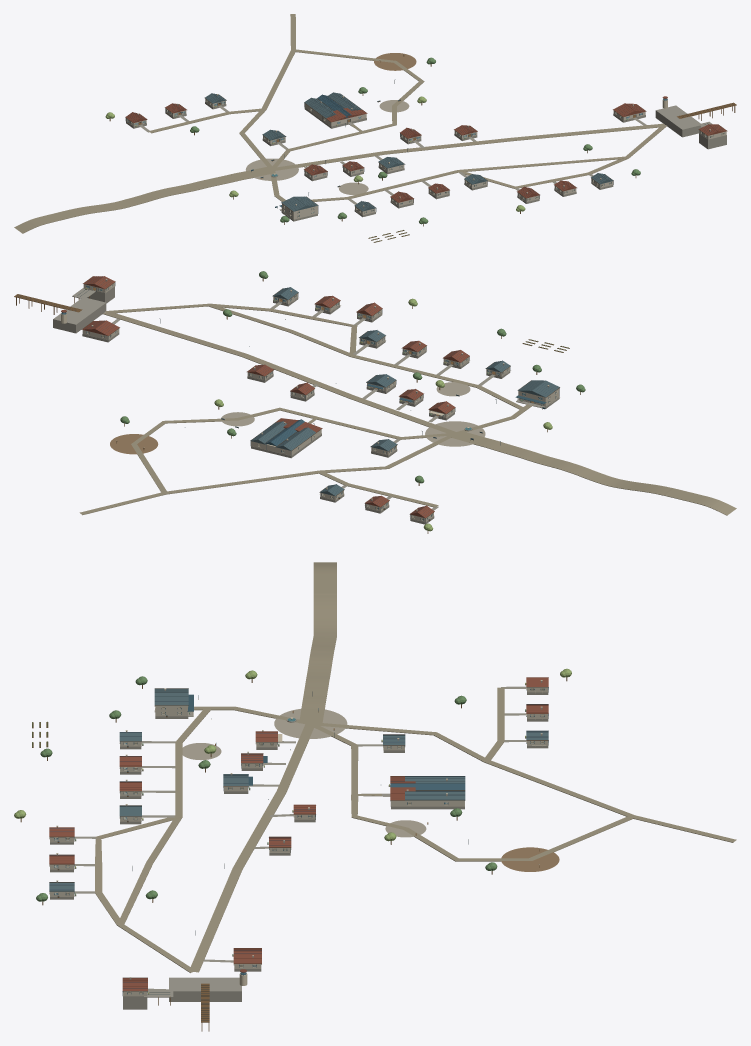
Rendered from world_home.visual.glb.
3 renders of one model, top to bottom at view 1: azimuth 30°, elevation 25°; view 2: azimuth 150°, elevation 25°; view 3: azimuth 270°, elevation 25°, orthographic. The views are drawn at different scales.
Visible parts, largest first — view 1: home_Routes, home_Buildings, home_PublicSpaces, home_Harbour, home_Trees_Leaves; view 2: home_Routes, home_Buildings, home_PublicSpaces, home_Harbour, home_Trees_Leaves; view 3: home_Routes, home_Buildings, home_PublicSpaces, home_Harbour, home_Trees_Leaves.
Part boxes in pixels (x1,y1,x2,y2): home_Routes: (14, 14, 666, 233); home_Buildings: (125, 92, 727, 221); home_PublicSpaces: (127, 53, 628, 242); home_Harbour: (655, 96, 736, 137); home_Trees_Leaves: (105, 57, 640, 224); home_Routes: (79, 303, 736, 515); home_Buildings: (81, 276, 559, 524); home_PublicSpaces: (85, 289, 569, 520); home_Harbour: (14, 288, 106, 333); home_Trees_Leaves: (85, 271, 585, 531); home_Routes: (95, 562, 736, 972); home_Buildings: (49, 677, 548, 1009); home_PublicSpaces: (32, 684, 559, 994); home_Harbour: (144, 969, 247, 1031); home_Trees_Leaves: (14, 668, 571, 994).
Size of the model in its own units: 731 by 31.89 by 494.
